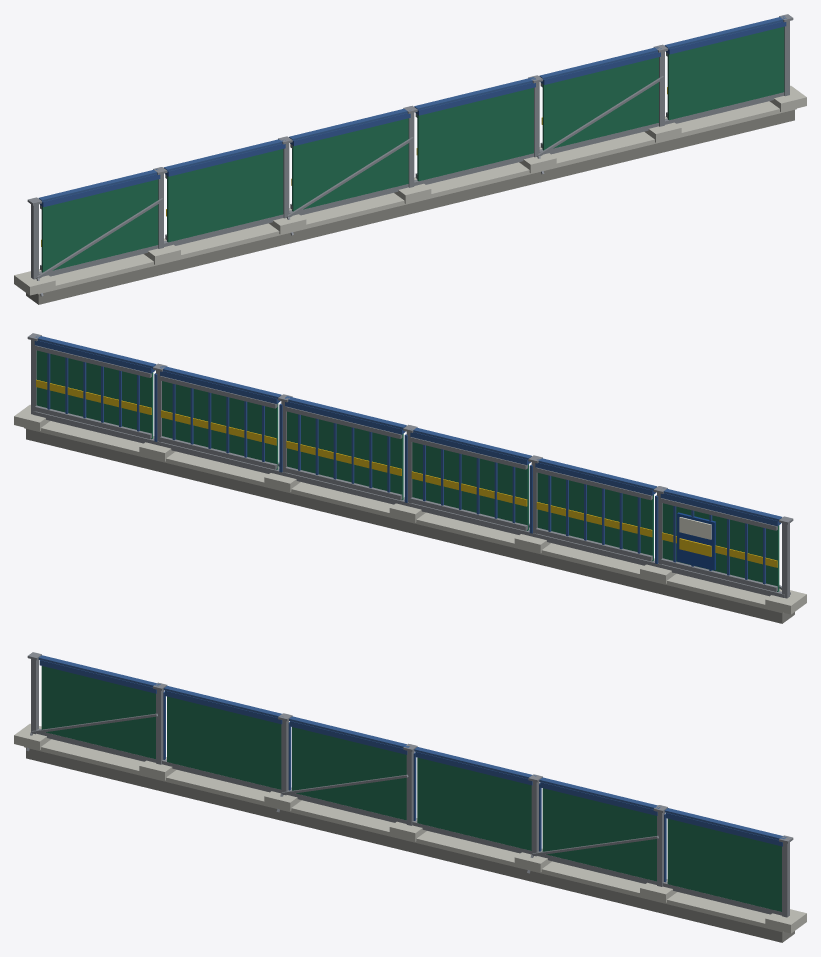
The model's file is fence.glb.
The picture shows the model from 3 angles, top to bottom: view 1: azimuth 30°, elevation 25°; view 2: azimuth 150°, elevation 25°; view 3: azimuth 330°, elevation 25°; orthographic projection.
Parts seen in each view (by area): view 1: Fence; view 2: Fence; view 3: Fence.
Boxes of the visible parts, x1,y1,x2,y2 form: Fence: (14,14,806,304); Fence: (14,333,806,623); Fence: (14,652,806,942).
Size of the model in its own units: 18.62 by 2.28 by 0.66.
